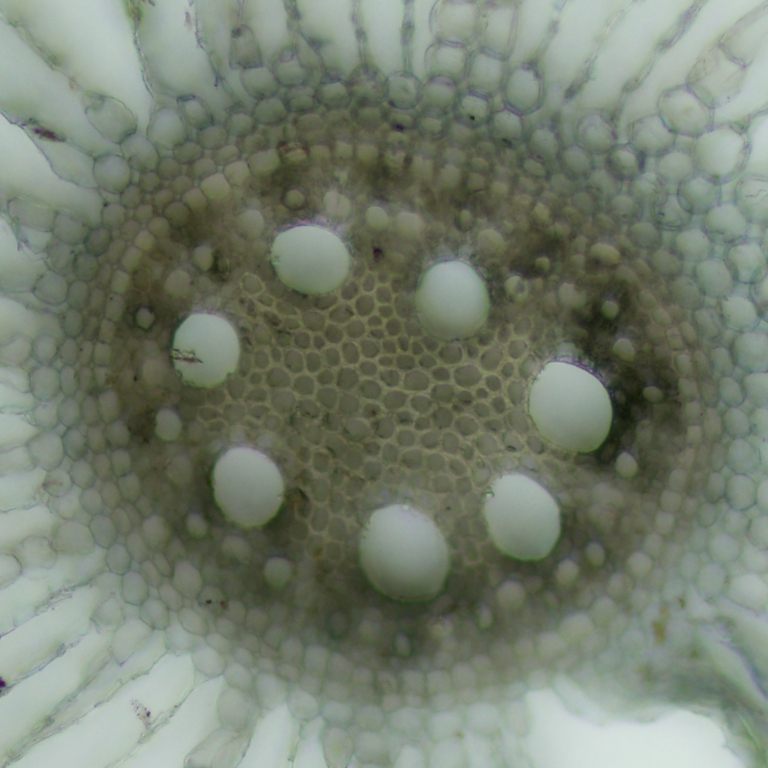lm: (357, 501, 449, 604), (526, 360, 612, 454), (480, 470, 561, 562), (209, 445, 284, 530), (414, 260, 490, 342), (268, 224, 351, 296), (171, 311, 240, 389)
